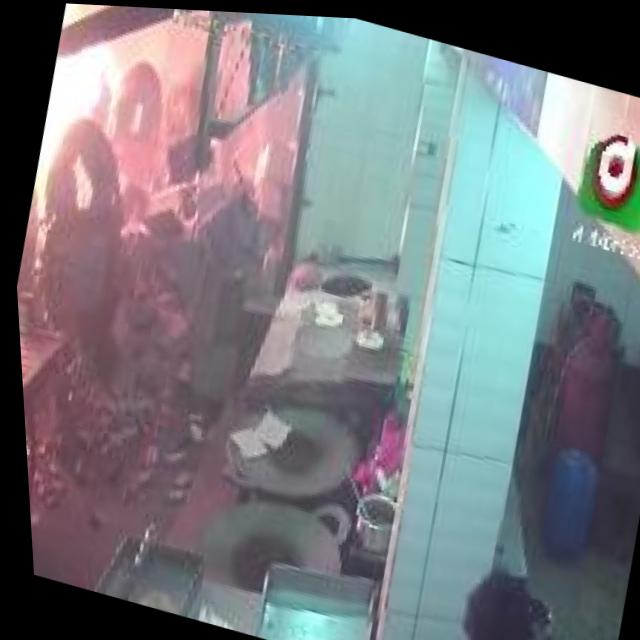fire: (23, 1, 145, 207)
